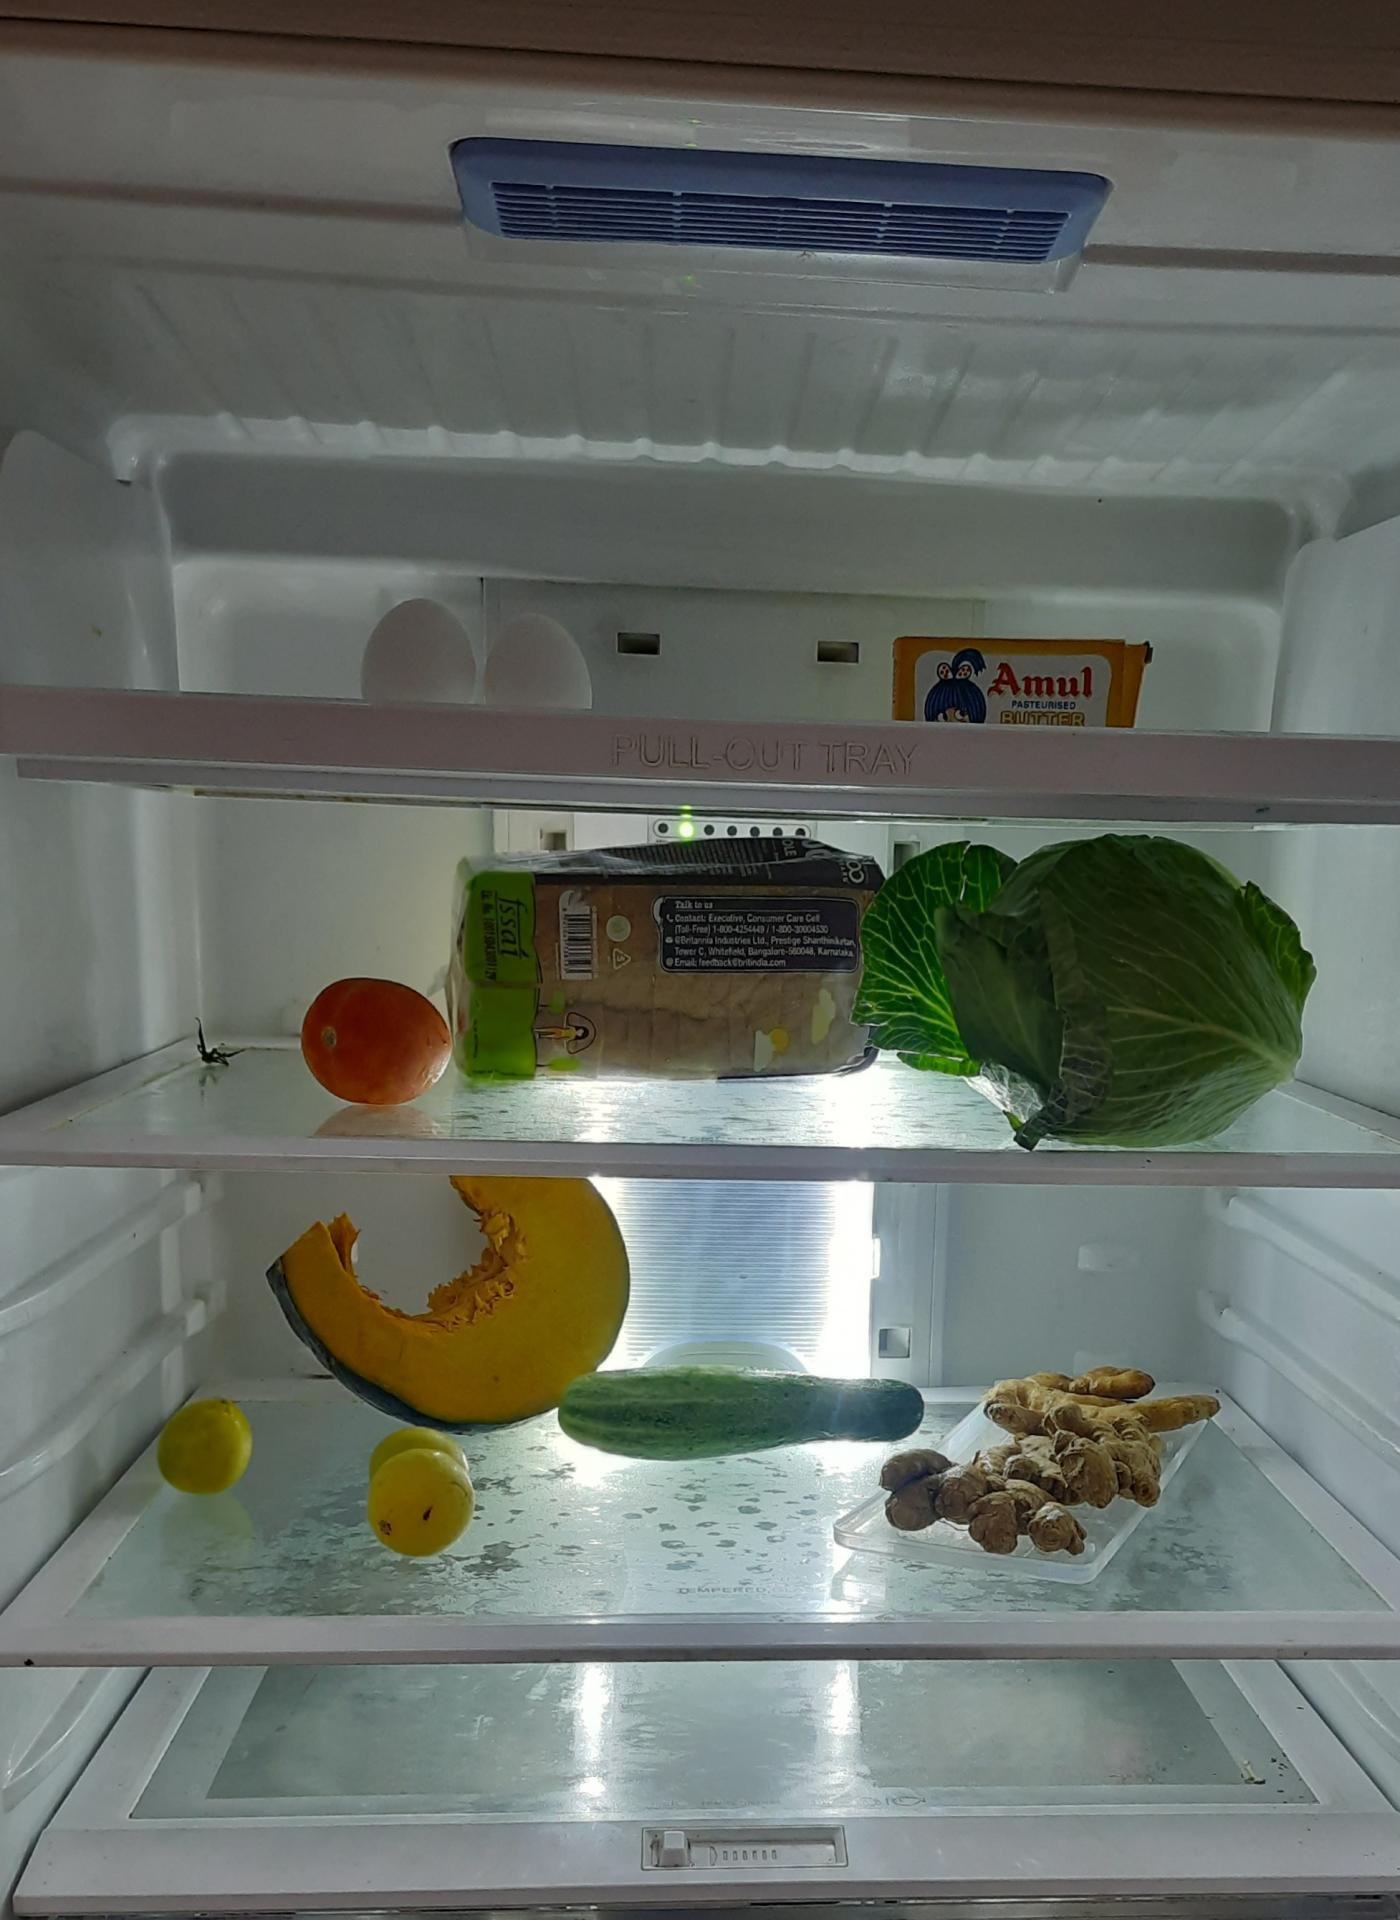bread: (447, 850, 886, 1084)
butter: (887, 629, 1150, 733)
cabbage: (847, 845, 1315, 1148)
cucumber: (550, 1365, 909, 1461)
egg: (361, 599, 595, 710)
ginger: (866, 1427, 1182, 1559), (986, 1362, 1157, 1430)
lemon: (361, 1427, 476, 1558), (157, 1394, 256, 1498)
pumpkin: (277, 1182, 644, 1430)
tomato: (300, 981, 453, 1109)
